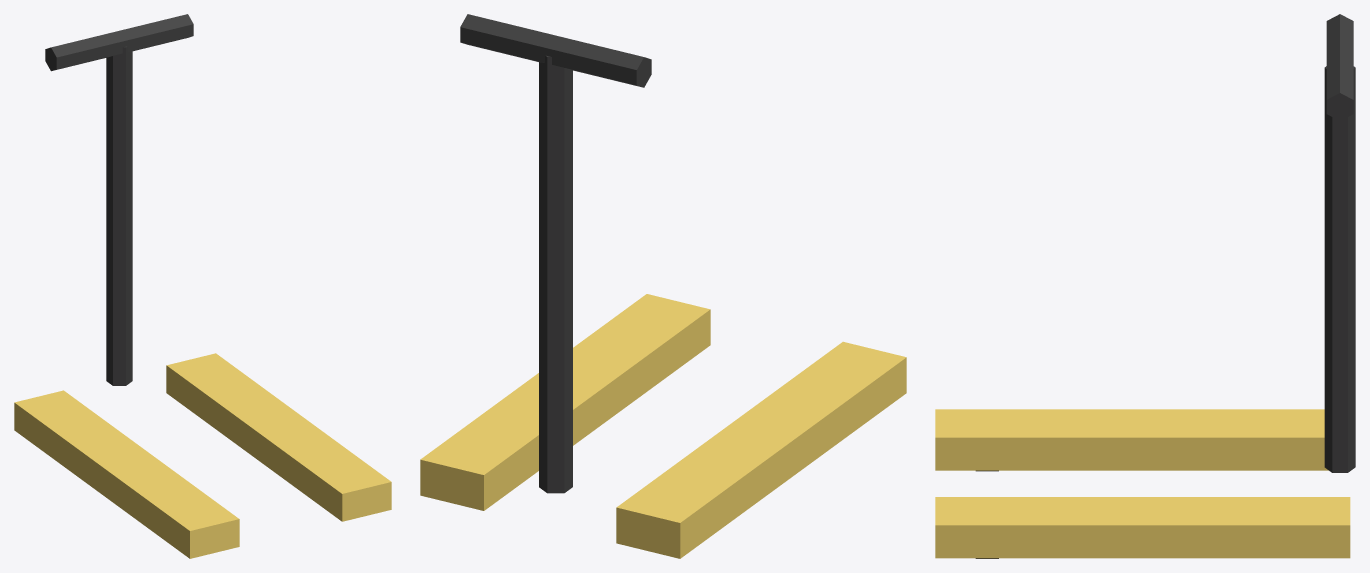
3 renders of one model, left to right at view 1: azimuth 30°, elevation 25°; view 2: azimuth 150°, elevation 25°; view 3: azimuth 270°, elevation 25°, orthographic. The views are drawn at different scales.
Parts seen in each view (by area): view 1: Fork, Fork.001, Handle, Grip; view 2: Fork, Fork.001, Handle, Grip; view 3: Fork.001, Fork, Handle, Grip.
Boxes of the visible parts, box(x1,y1,x2,y2) form: Fork: box(14, 390, 239, 558); Fork.001: box(166, 353, 391, 521); Handle: box(106, 46, 132, 385); Grip: box(45, 14, 193, 71); Fork: box(616, 341, 906, 558); Fork.001: box(420, 294, 710, 510); Handle: box(539, 55, 572, 493); Grip: box(460, 14, 651, 87); Fork.001: box(935, 497, 1350, 558); Fork: box(935, 409, 1328, 470); Handle: box(1324, 66, 1355, 472); Grip: box(1326, 14, 1353, 120).
Size of the model in its own units: 53 by 98 by 81.
